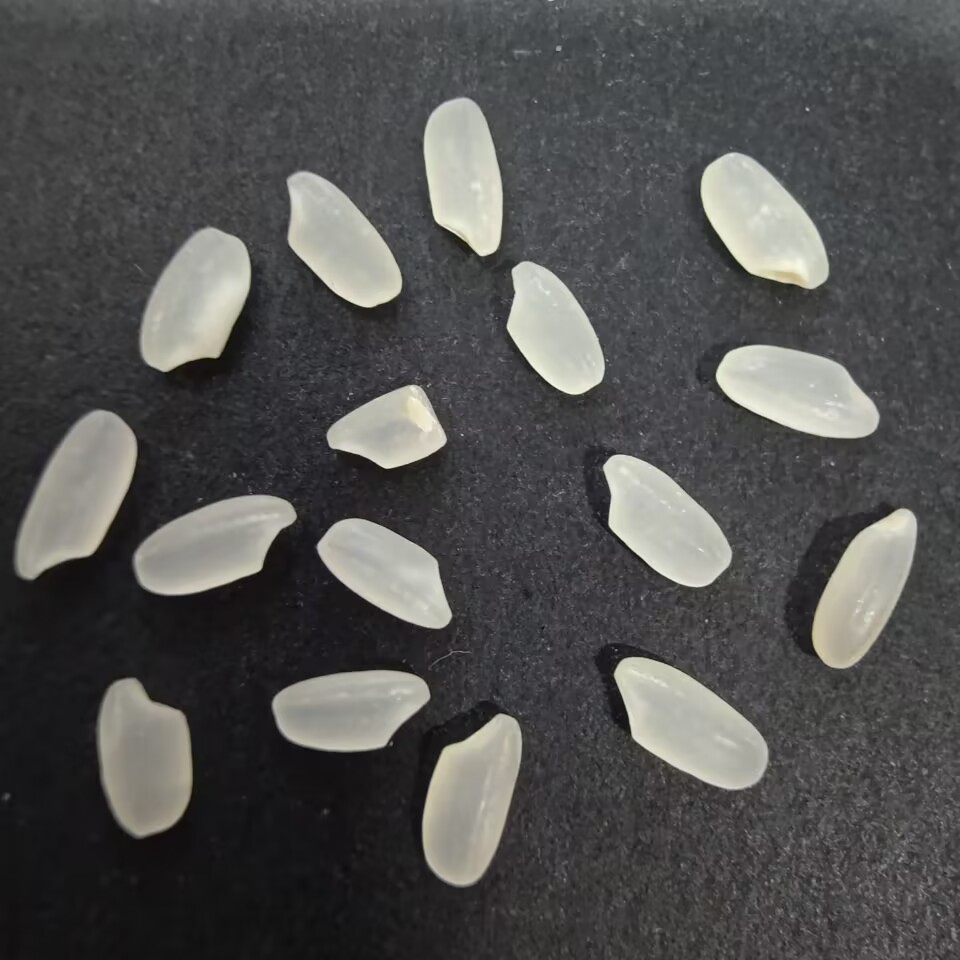broken: (323, 382, 450, 474)
rice: (12, 401, 143, 590), (606, 654, 772, 798), (415, 705, 527, 890), (694, 151, 835, 295), (596, 449, 736, 594), (133, 219, 256, 380), (89, 672, 202, 844), (808, 501, 921, 672), (127, 489, 299, 599), (712, 340, 886, 445), (281, 169, 406, 315), (309, 515, 463, 632), (270, 662, 432, 754), (505, 260, 611, 398), (417, 95, 505, 259)
